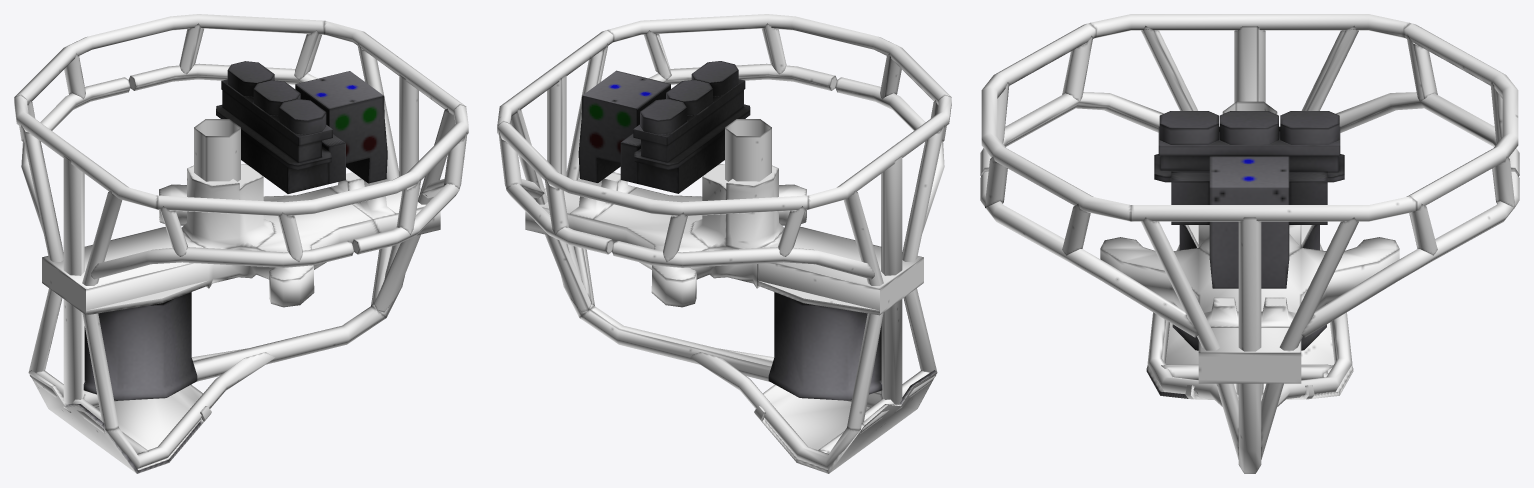
Rendered from pelvis.dae.
3 renders of one model, left to right at view 1: azimuth 30°, elevation 25°; view 2: azimuth 150°, elevation 25°; view 3: azimuth 270°, elevation 25°, orthographic. The views are drawn at different scales.
Visible parts, largest first — view 1: pelvis; view 2: pelvis; view 3: pelvis.
Part boxes in pixels (x1,y1,x2,y2): pelvis: (14, 14, 468, 473); pelvis: (497, 14, 951, 473); pelvis: (980, 14, 1519, 473).
Size of the model in its own units: 0.3298 by 0.3728 by 0.2739.
1 material, 1 textured.
